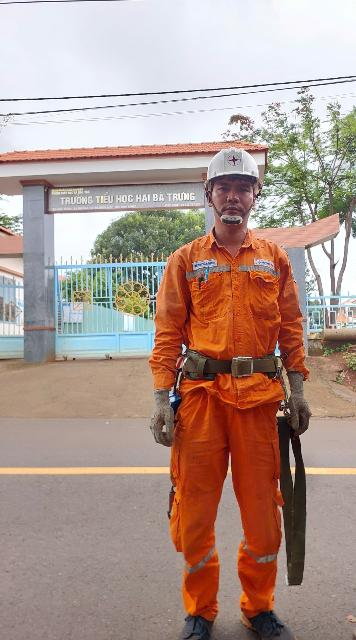gloves: (146, 383, 180, 451), (285, 375, 317, 437)
harness: (171, 339, 294, 386)
helmet: (201, 138, 277, 180)
shoes: (164, 603, 220, 640), (242, 603, 297, 640)
